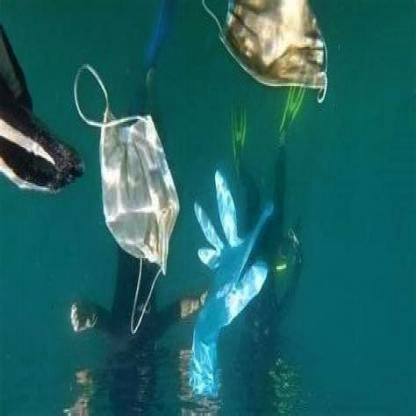Mask: (68, 58, 179, 338), (197, 0, 331, 108)
glove: (185, 166, 277, 405)
